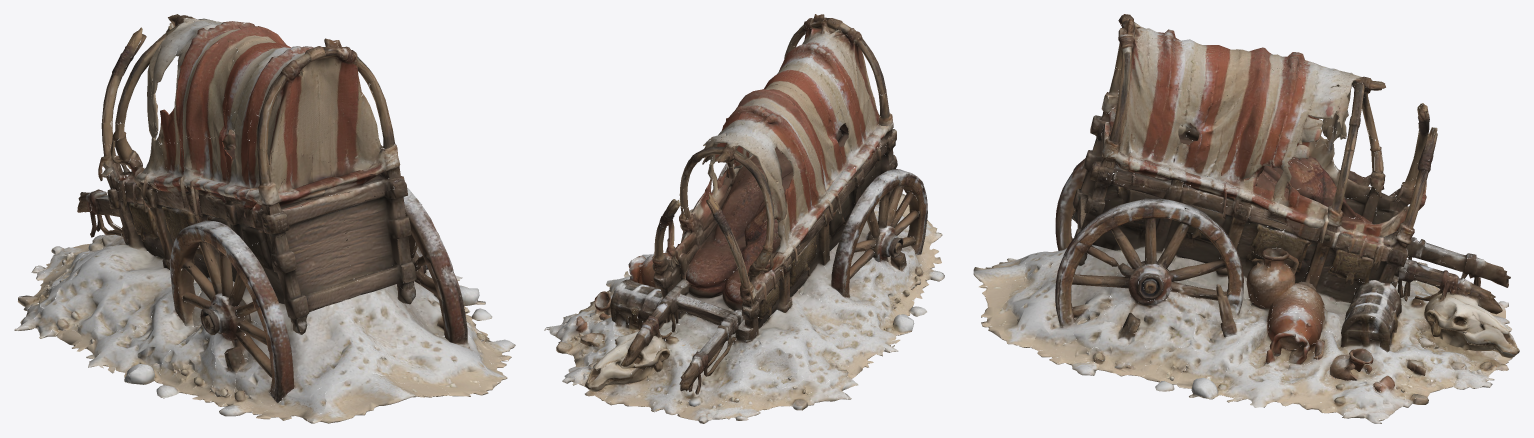
Rendered from caravan-wreck-tripo.glb.
The picture shows the model from 3 angles, left to right: view 1: azimuth 30°, elevation 25°; view 2: azimuth 150°, elevation 25°; view 3: azimuth 270°, elevation 25°; orthographic projection. The views are drawn at different scales.
Visible parts, largest first — view 1: tripo_node_bd4c9d06-e28b-4fc7-bf57-50c36acc8c50; view 2: tripo_node_bd4c9d06-e28b-4fc7-bf57-50c36acc8c50; view 3: tripo_node_bd4c9d06-e28b-4fc7-bf57-50c36acc8c50.
Part boxes in pixels (x1,y1,x2,y2): tripo_node_bd4c9d06-e28b-4fc7-bf57-50c36acc8c50: [14, 14, 515, 423]; tripo_node_bd4c9d06-e28b-4fc7-bf57-50c36acc8c50: [544, 14, 944, 423]; tripo_node_bd4c9d06-e28b-4fc7-bf57-50c36acc8c50: [973, 14, 1519, 423].
Size of the model in its own units: 0.7283 by 0.6359 by 0.9994.
Materials: 1 (1 with a texture image).
